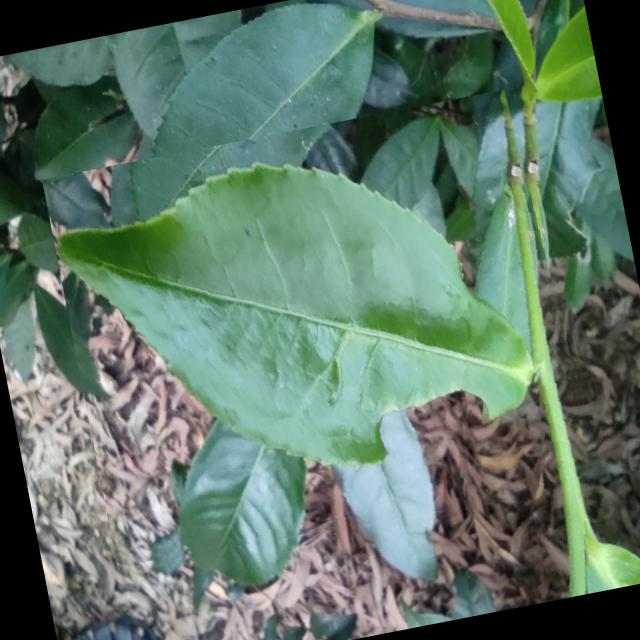Category C(4-7 days): (41, 86, 601, 577)
